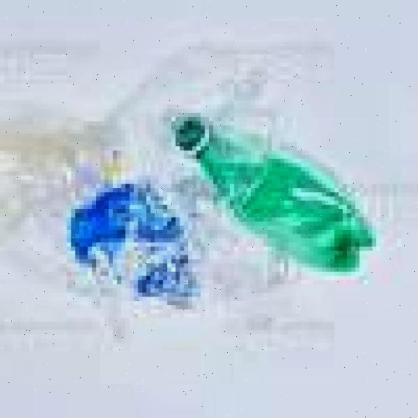bottle: (156, 102, 377, 283)
